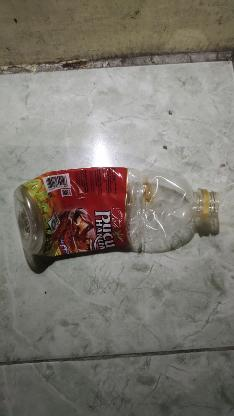Plastic Bottle: (14, 166, 220, 274)
